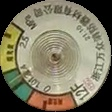green: (4, 69, 36, 104)
needle: (7, 65, 36, 87)
red: (28, 89, 78, 112)
yellow: (2, 23, 23, 72)
